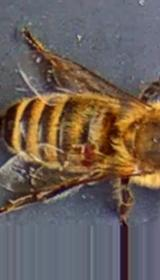varroa_mite: (70, 131, 110, 169)
